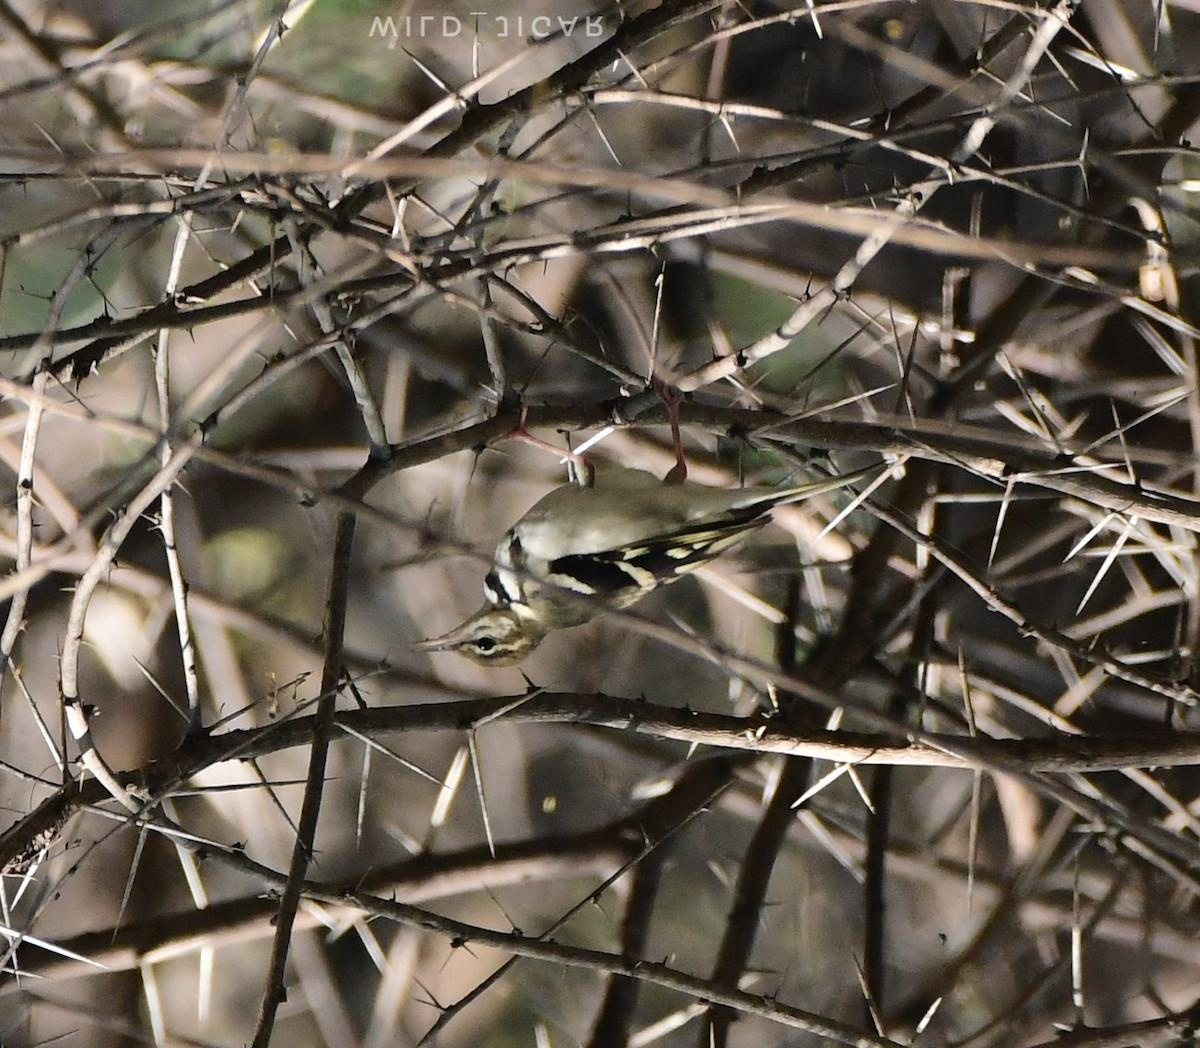wagtail: (397, 354, 910, 678)
